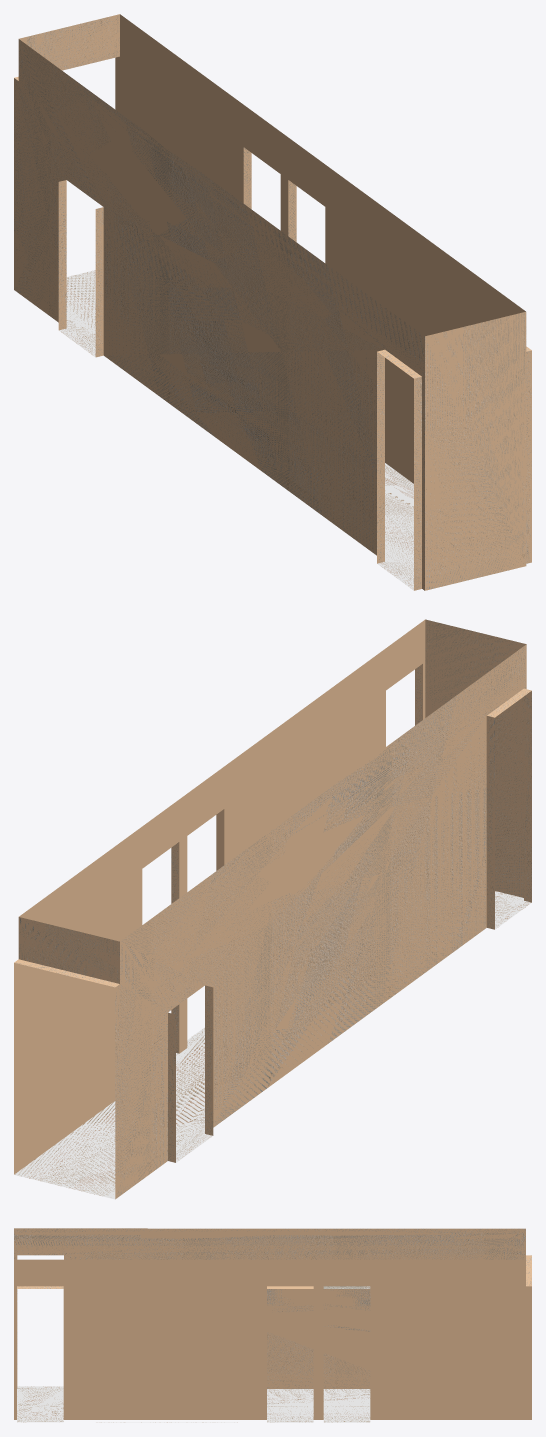
The model's file is COM019.obj.
3 renders of one model, top to bottom at view 1: azimuth 30°, elevation 25°; view 2: azimuth 150°, elevation 25°; view 3: azimuth 270°, elevation 25°, orthographic. The views are drawn at different scales.
Visible parts, largest first — view 1: Mesh1 COM019 Model; view 2: Mesh1 COM019 Model; view 3: Mesh1 COM019 Model.
Boxes of the visible parts, x1,y1,x2,y2 form: Mesh1 COM019 Model: (14,14,531,590); Mesh1 COM019 Model: (14,619,531,1199); Mesh1 COM019 Model: (14,1228,531,1422).
Size of the model in its own units: 1.74 by 3.6 by 10.54.
Materials: 4 (2 with a texture image).
